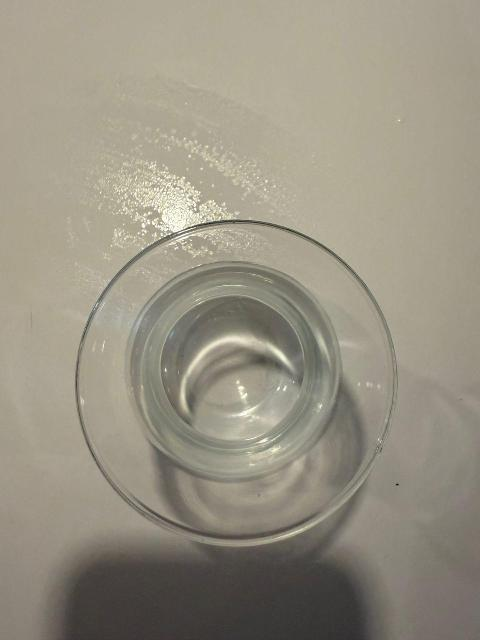Cam: (76, 221, 393, 549)
